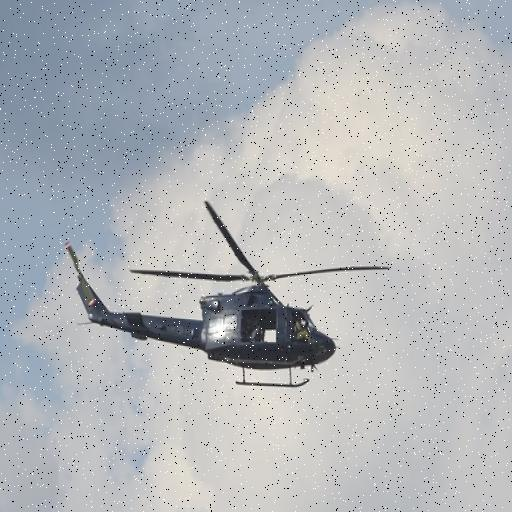helicopter: (60, 195, 395, 399)
